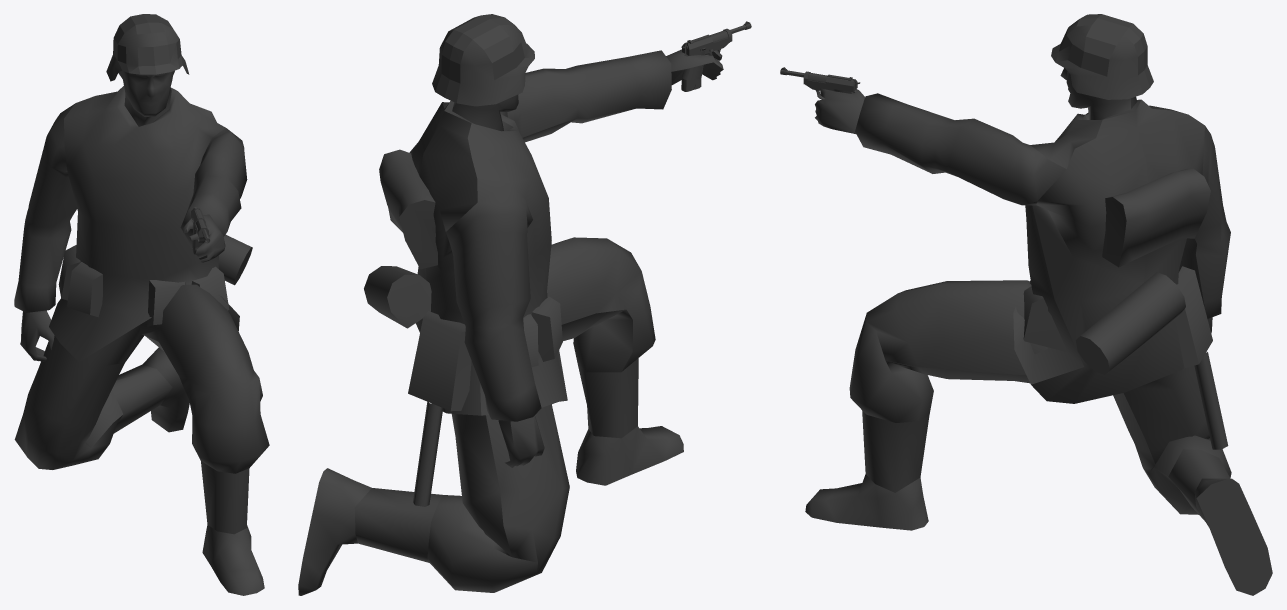
Rendered from de_pistola_acc.glb.
3 views of the same model, side by side, from view 1: azimuth 30°, elevation 25°; view 2: azimuth 150°, elevation 25°; view 3: azimuth 270°, elevation 25° (orthographic). The views are drawn at different scales.
Parts seen in each view (by area): view 1: SketchUp.005_ID113_4; view 2: SketchUp.005_ID113_4; view 3: SketchUp.005_ID113_4.
Boxes of the visible parts, bbox=[...] form: SketchUp.005_ID113_4: bbox=[14, 14, 269, 595]; SketchUp.005_ID113_4: bbox=[298, 14, 751, 595]; SketchUp.005_ID113_4: bbox=[780, 14, 1272, 595].
Size of the model in its own units: 0.1697 by 0.4014 by 0.3402.
1 material, 1 textured.
